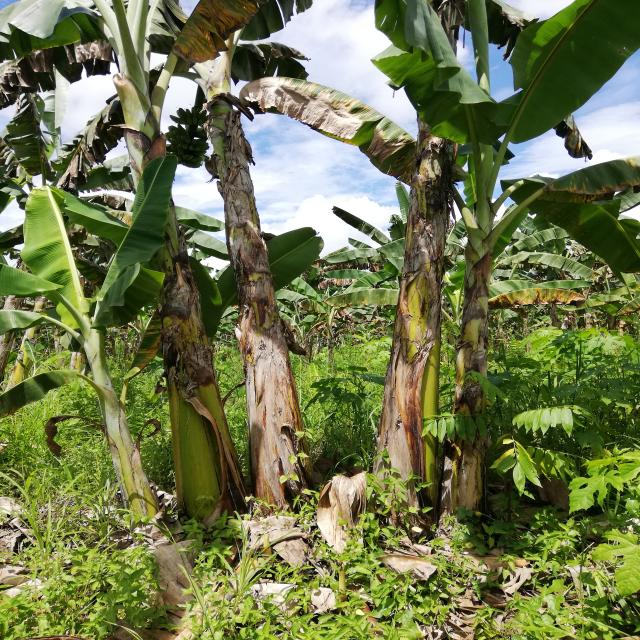Banana-plant: (110, 46, 246, 518), (194, 62, 332, 526), (374, 127, 449, 510), (442, 190, 515, 532)
